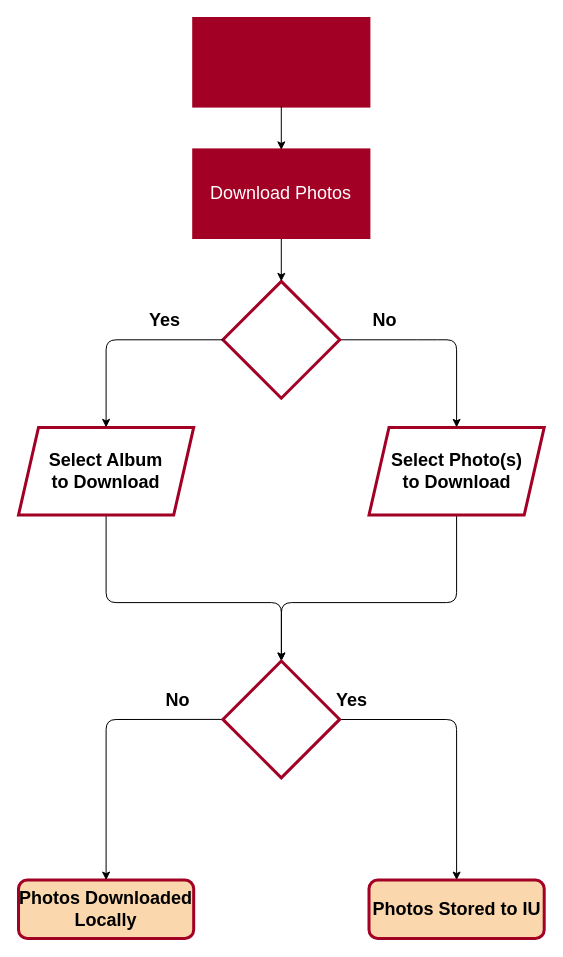
Image size: 563x957. Some labels were removed from this diagram. Here are the shapes that lost their labels. From the top down, the box of each, then its label:
(192, 16, 370, 107): View Photos
(221, 279, 341, 399): download album?
(221, 659, 341, 779): download to IU cloud?
